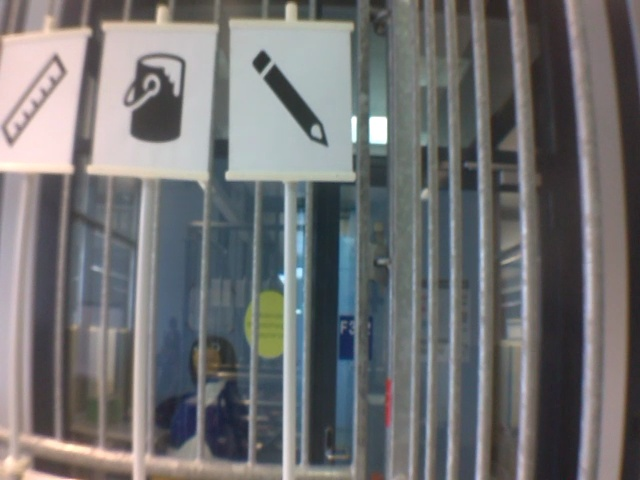bucket: (115, 47, 192, 148)
pencil: (246, 45, 333, 151)
ruler: (1, 50, 68, 153)
